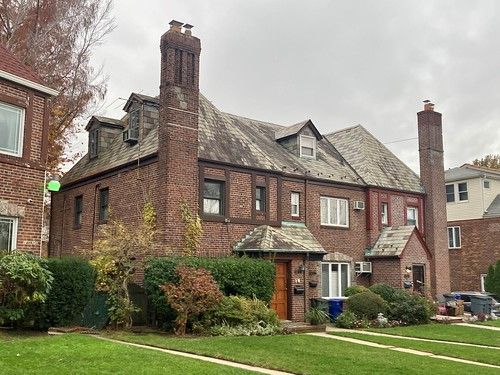medium: (47, 26, 448, 335)
